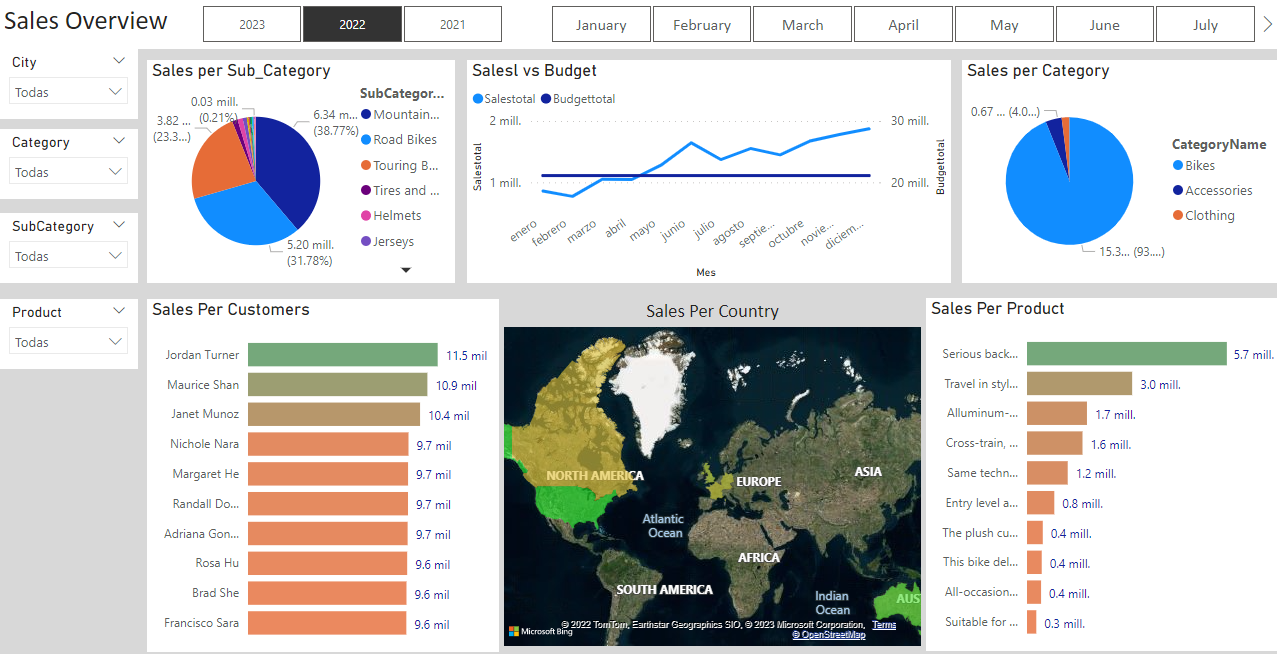

The dashboard page shown, as its layout file describes it:
{"tool":"powerbi","page":{"name":"Sales Overview1","canvas":[1280,720],"ordinal":0},"visuals":[{"type":"textbox","box":[0,0,1280,49.6],"z":0},{"type":"slicer","fields":{"Values":["dim_customers.City"]},"box":[0,49.6,139.1,70],"z":1000},{"type":"slicer","fields":{"Values":["dim_products.CategoryName"]},"box":[0,130.3,139.1,70],"z":2000},{"type":"slicer","fields":{"Values":["dim_products.SubCategoryName"]},"box":[0,214,139.1,70],"z":3000},{"type":"slicer","fields":{"Values":["dim_products.Product_name"]},"box":[0,299.6,139.1,70],"z":4000},{"type":"pieChart","title":"Sales per Sub_Category","fields":{"Y":["Main_measure.Salestotal"],"Category":["dim_products.SubCategoryName"]},"box":[147.7,60.8,308.5,223.1],"z":5000},{"type":"slicer","fields":{"Values":["dim_dates.month_name"]},"box":[526.7,0,753.3,50],"z":6000},{"type":"slicer","fields":{"Values":["dim_dates.year_num"]},"box":[177.8,0,348.9,50],"z":7000},{"type":"lineChart","title":"Salesl vs Budget","fields":{"Category":["dim_dates.Date.Variación.Jerarquía de fechas.Mes"],"Y2":["Main_measure.Budgettotal"],"Y":["Main_measure.Salestotal"]},"box":[468.5,60.8,483.8,223.1],"z":8000},{"type":"pieChart","title":"Sales per Category","fields":{"Y":["Main_measure.Salestotal"],"Category":["dim_products.CategoryName"]},"box":[963.1,60.8,316.9,223.1],"z":9000},{"type":"clusteredBarChart","title":"Sales Per Customers","fields":{"Y":["Sum(FactSales.SalesAmount)"],"Category":["dim_customers.FullName"]},"box":[147.8,300,352.2,353.3],"z":10000},{"type":"clusteredBarChart","title":"Sales Per Product","fields":{"Y":["Sum(FactSales.SalesAmount)"],"Category":["dim_products.Product_desc"]},"box":[926.7,298.9,353.3,353.3],"z":11000},{"type":"filledMap","title":"Sales Per Country","fields":{"Category":["dim_customers.Country"]},"box":[500,300,426.7,352.2],"z":12000}]}

Visuals, with their boxes on the page's 1280x720 design canvas (x1, y1, x2, y2). These are canvas units, not pixel positions in the 1277x654 screenshot, which may show the page scaled, cropped or inside an application window:
textbox: bbox=(0, 0, 1280, 50)
slicer - dim_customers.City: bbox=(0, 50, 139, 120)
slicer - dim_products.CategoryName: bbox=(0, 130, 139, 200)
slicer - dim_products.SubCategoryName: bbox=(0, 214, 139, 284)
slicer - dim_products.Product_name: bbox=(0, 300, 139, 370)
"Sales per Sub_Category" pieChart: bbox=(148, 61, 456, 284)
slicer - dim_dates.month_name: bbox=(527, 0, 1280, 50)
slicer - dim_dates.year_num: bbox=(178, 0, 527, 50)
"Salesl vs Budget" lineChart: bbox=(468, 61, 952, 284)
"Sales per Category" pieChart: bbox=(963, 61, 1280, 284)
"Sales Per Customers" clusteredBarChart: bbox=(148, 300, 500, 653)
"Sales Per Product" clusteredBarChart: bbox=(927, 299, 1280, 652)
"Sales Per Country" filledMap: bbox=(500, 300, 927, 652)
